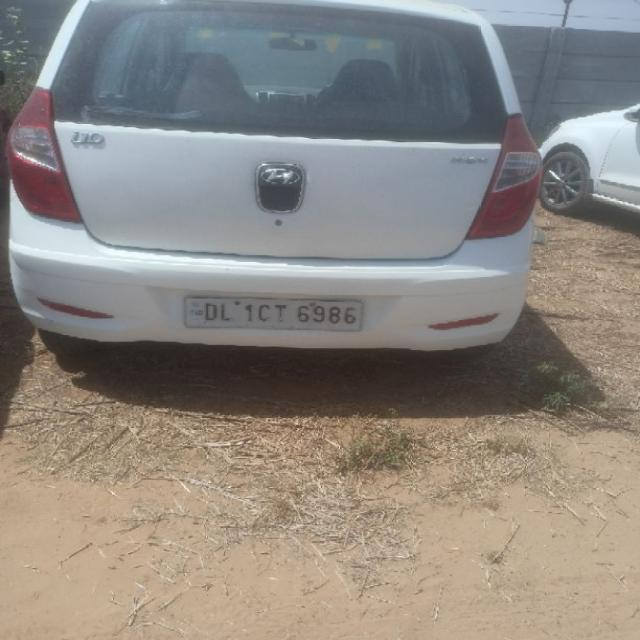license_plate: (182, 295, 364, 332)
